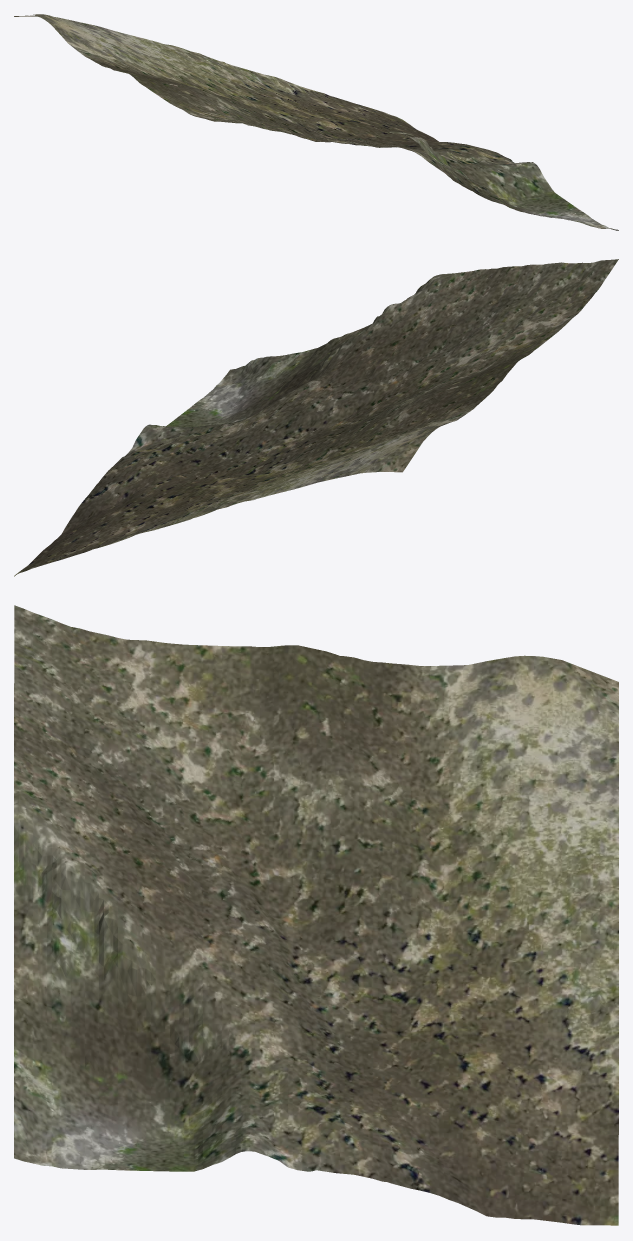
3 renders of one model, top to bottom at view 1: azimuth 30°, elevation 25°; view 2: azimuth 150°, elevation 25°; view 3: azimuth 270°, elevation 25°, orthographic. The views are drawn at different scales.
Bounding box in the file's own units: 500 × 313 × 481.
1 material, 1 textured.
